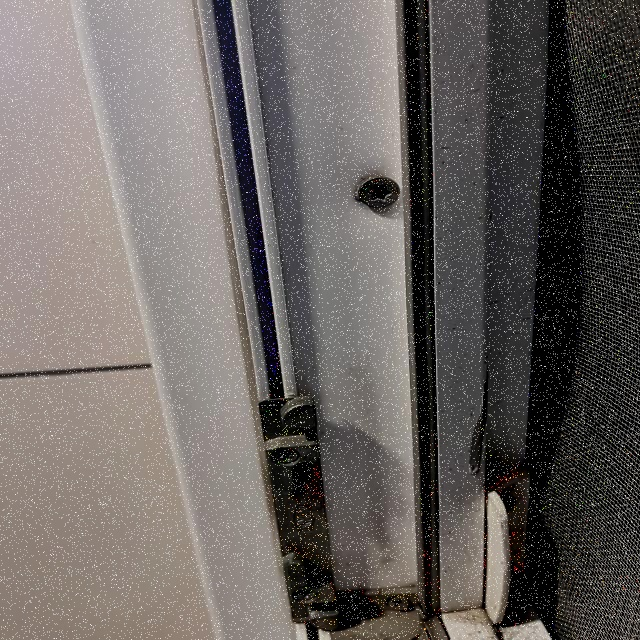phillips: (272, 448, 300, 463), (338, 596, 361, 611), (387, 595, 410, 610), (293, 588, 317, 600)
torx: (358, 176, 401, 208)
